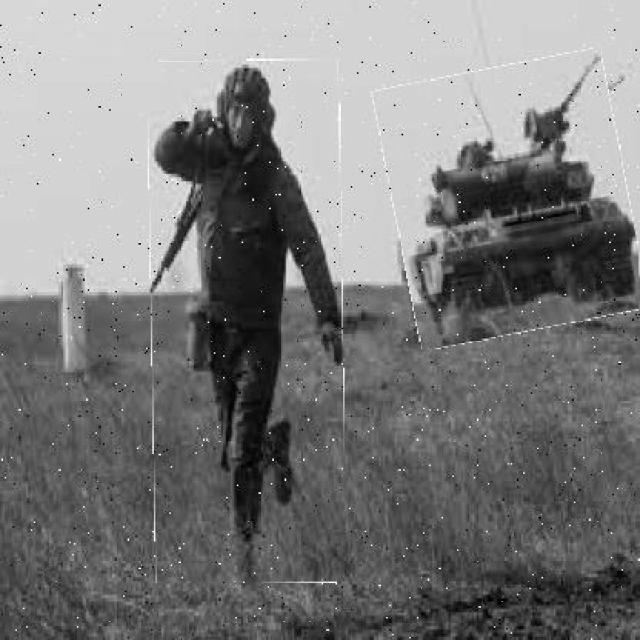Person: (152, 61, 346, 586)
Tank: (384, 60, 640, 343)
